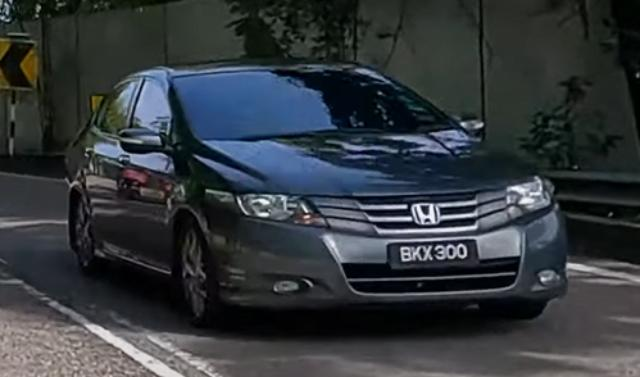License_Plate: (389, 238, 480, 270)
car: (64, 58, 570, 328)
